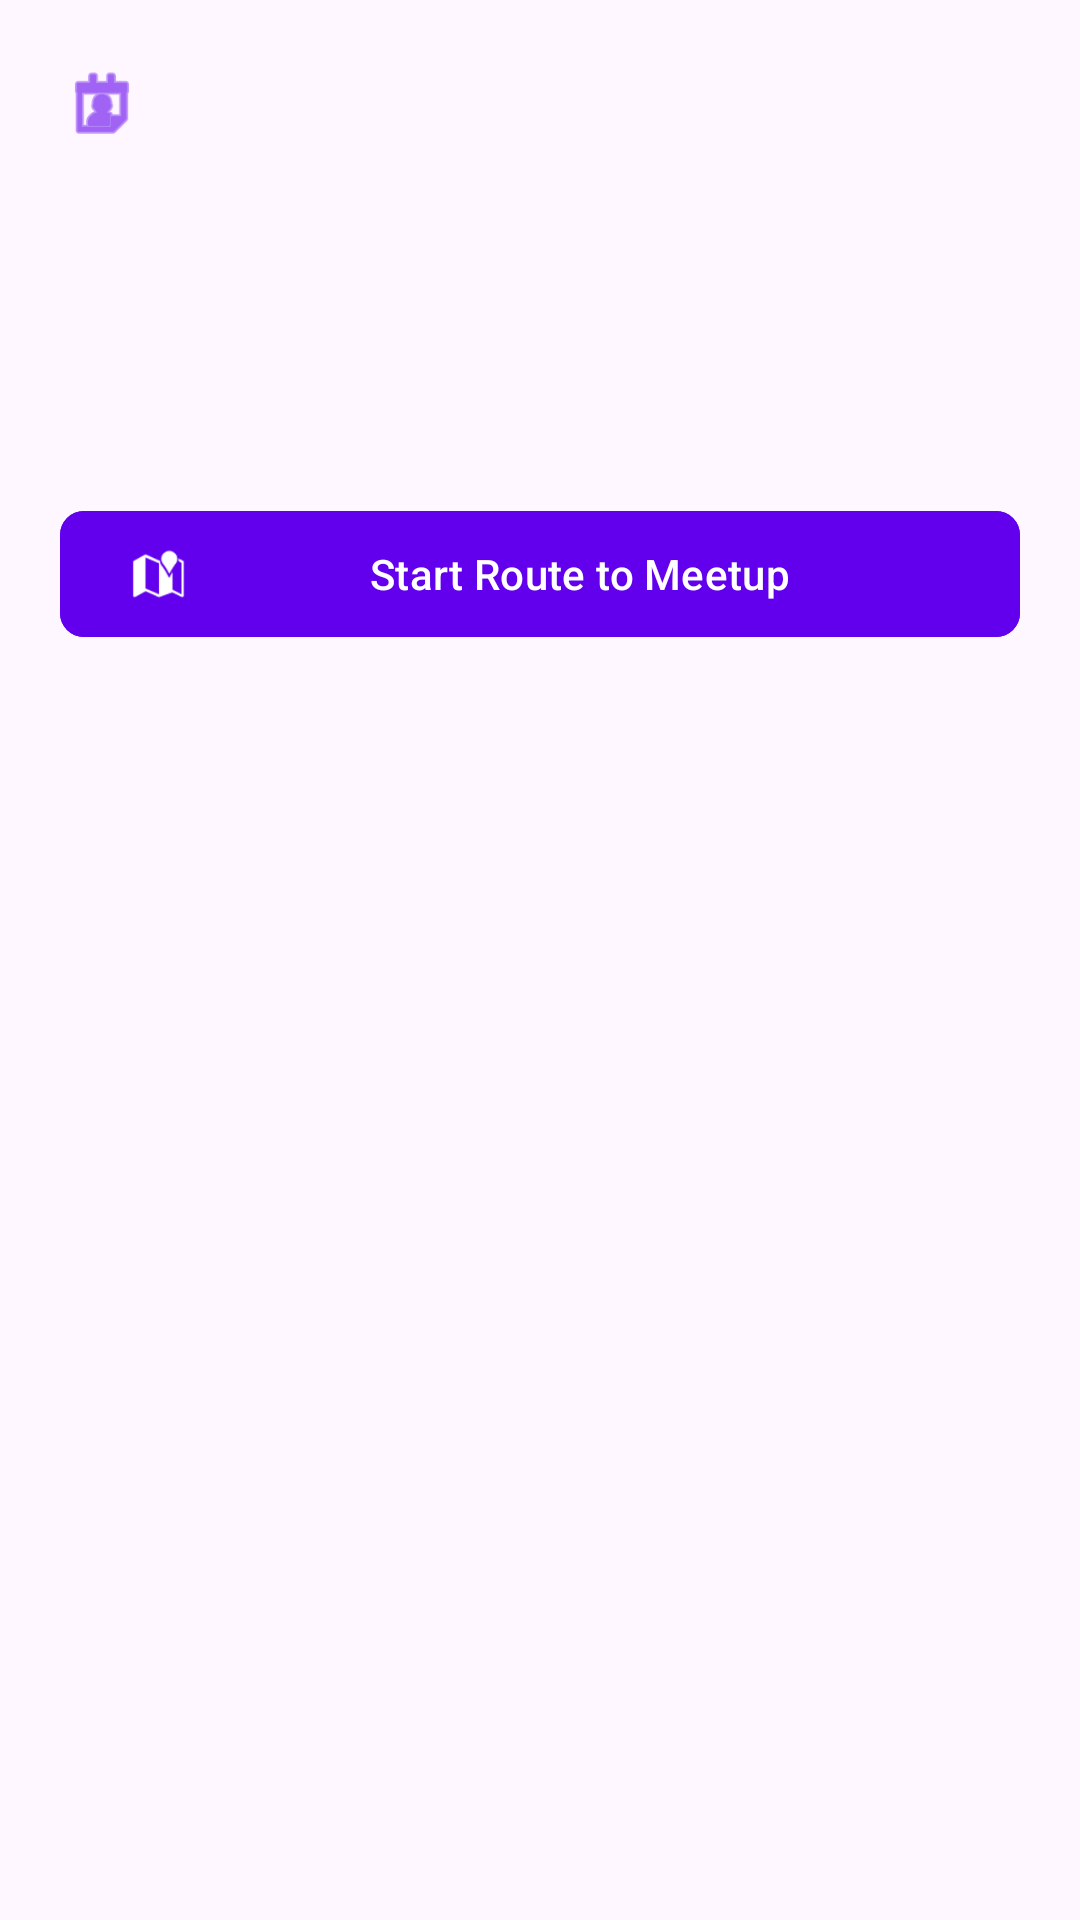

Named icons in this screenshot (1080 x 1920) and their centers, (x,y):
calendar: (102,103)
